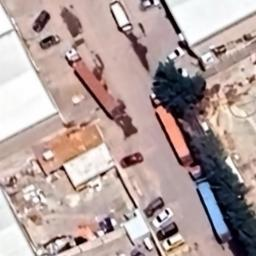SUV: (29, 8, 53, 34), (154, 220, 182, 242), (142, 192, 164, 218), (162, 232, 185, 250), (138, 0, 166, 14), (36, 34, 62, 48)
sedan: (117, 150, 147, 170), (151, 204, 175, 228), (164, 45, 186, 64)
truck: (62, 46, 128, 121), (184, 156, 239, 246), (148, 92, 194, 165), (108, 0, 134, 34)
